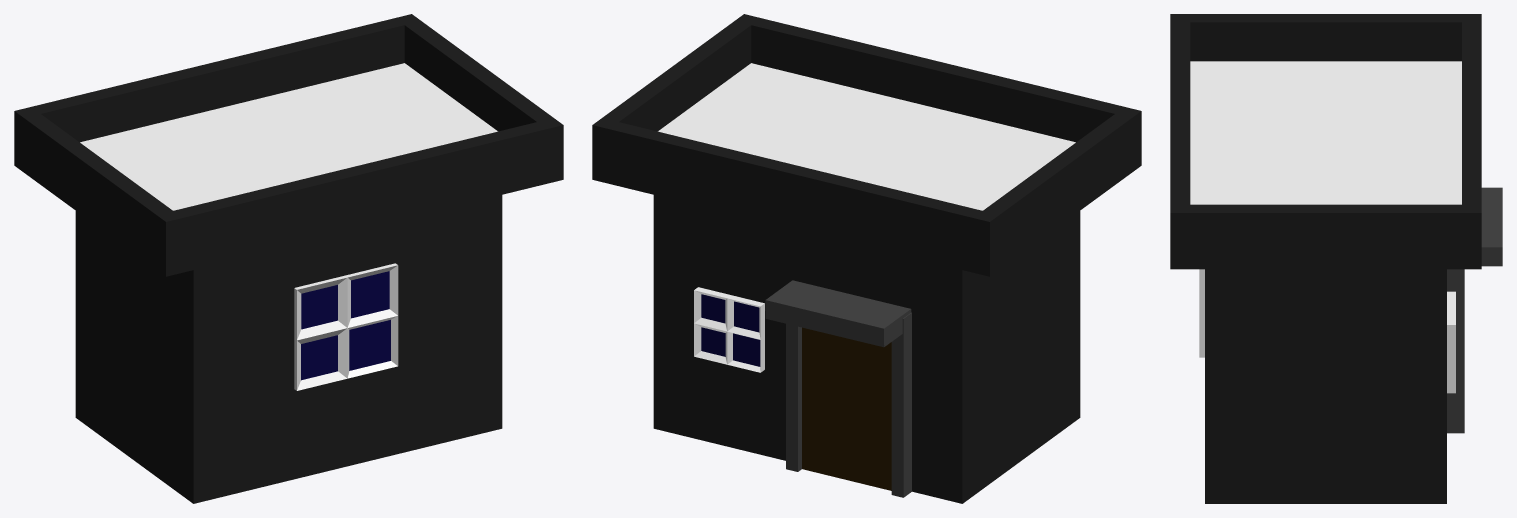
The model's file is house.fbx.
3 renders of one model, left to right at view 1: azimuth 30°, elevation 25°; view 2: azimuth 150°, elevation 25°; view 3: azimuth 270°, elevation 25°, orthographic. The views are drawn at different scales.
Parts seen in each view (by area): view 1: Box001, Box006; view 2: Box001, Box005, Box004, Box007, Box003, Box002; view 3: Box001, Box002, Box004, Box007, Box006.
Part boxes in pixels (x1=…): Box001: x1=14, y1=14, x2=563, y2=503; Box006: x1=294, y1=263, x2=398, y2=390; Box001: x1=592, y1=14, x2=1141, y2=503; Box005: x1=802, y1=327, x2=891, y2=490; Box004: x1=765, y1=280, x2=911, y2=347; Box007: x1=694, y1=287, x2=764, y2=372; Box003: x1=891, y1=312, x2=911, y2=497; Box002: x1=786, y1=323, x2=801, y2=471; Box001: x1=1170, y1=14, x2=1481, y2=503; Box002: x1=1447, y1=269, x2=1464, y2=433; Box004: x1=1481, y1=187, x2=1502, y2=266; Box007: x1=1447, y1=291, x2=1455, y2=393; Box006: x1=1199, y1=269, x2=1204, y2=357.
Bounding box in the file's own units: 107 × 78.85 × 75.85.
